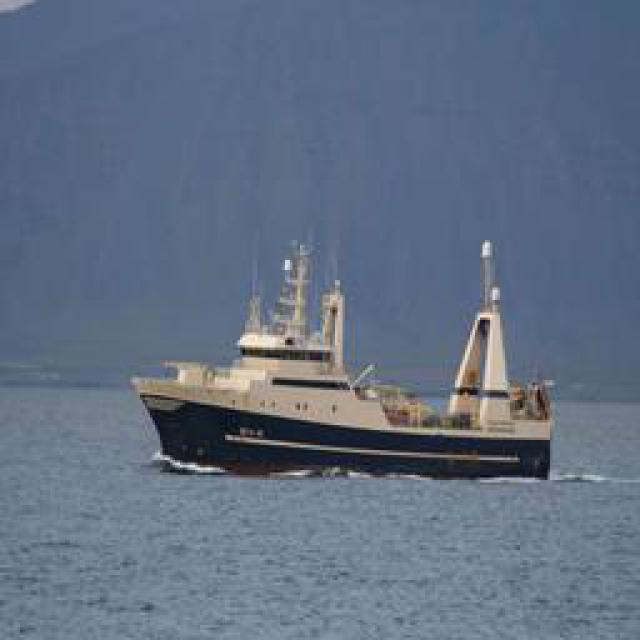Ship: (125, 225, 565, 480)
